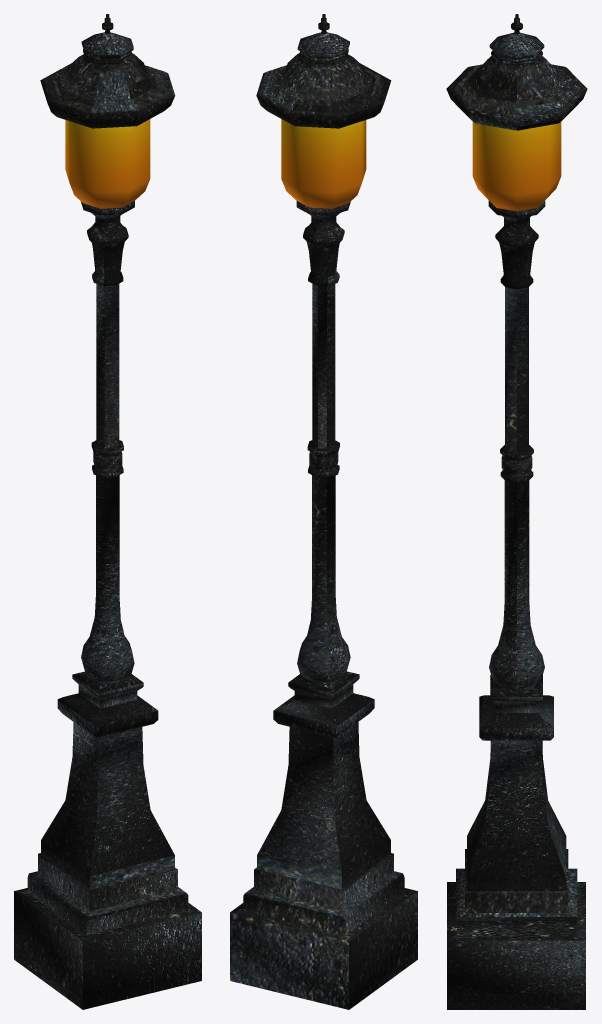
The model's file is textured lamp 5.fbx.
3 renders of one model, left to right at view 1: azimuth 30°, elevation 25°; view 2: azimuth 150°, elevation 25°; view 3: azimuth 270°, elevation 25°, orthographic.
Parts seen in each view (by area): view 1: Plane.002, Plane.008; view 2: Plane.002, Plane.008; view 3: Plane.002, Plane.008.
Part boxes in pixels (x1,y1,x2,y2): Plane.002: (14,14,201,1009); Plane.008: (65,119,150,208); Plane.002: (230,14,417,1009); Plane.008: (281,119,366,208); Plane.002: (446,14,587,1009); Plane.008: (472,121,561,211).
Bounding box in the file's own units: 59.59 × 450 × 59.59.
Materials: 2 (2 with a texture image).
